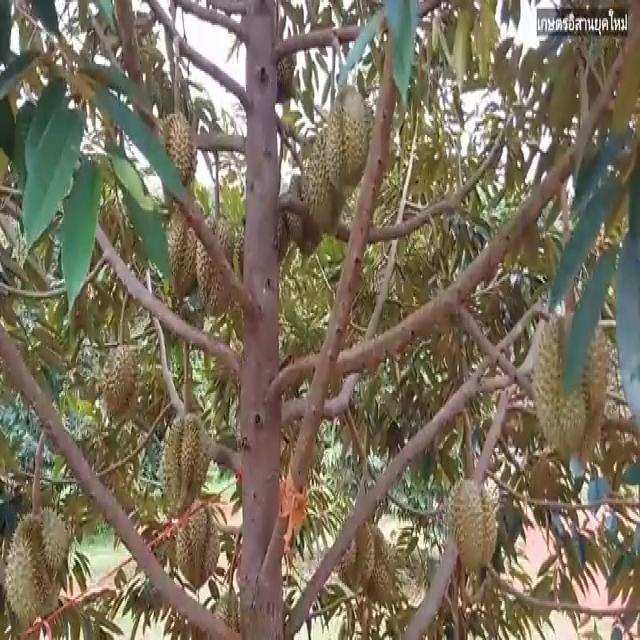durian: (527, 295, 615, 469), (5, 504, 70, 627), (320, 81, 374, 203), (446, 466, 501, 576), (160, 404, 212, 514), (156, 195, 204, 305), (194, 208, 236, 328), (170, 502, 224, 591), (301, 129, 345, 237), (154, 106, 201, 207), (333, 504, 377, 600), (96, 338, 139, 431), (285, 168, 325, 261)
